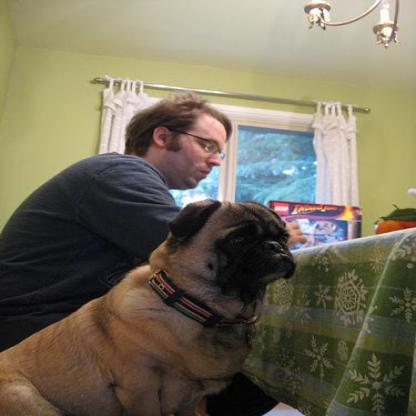pug: (0, 199, 294, 413)
